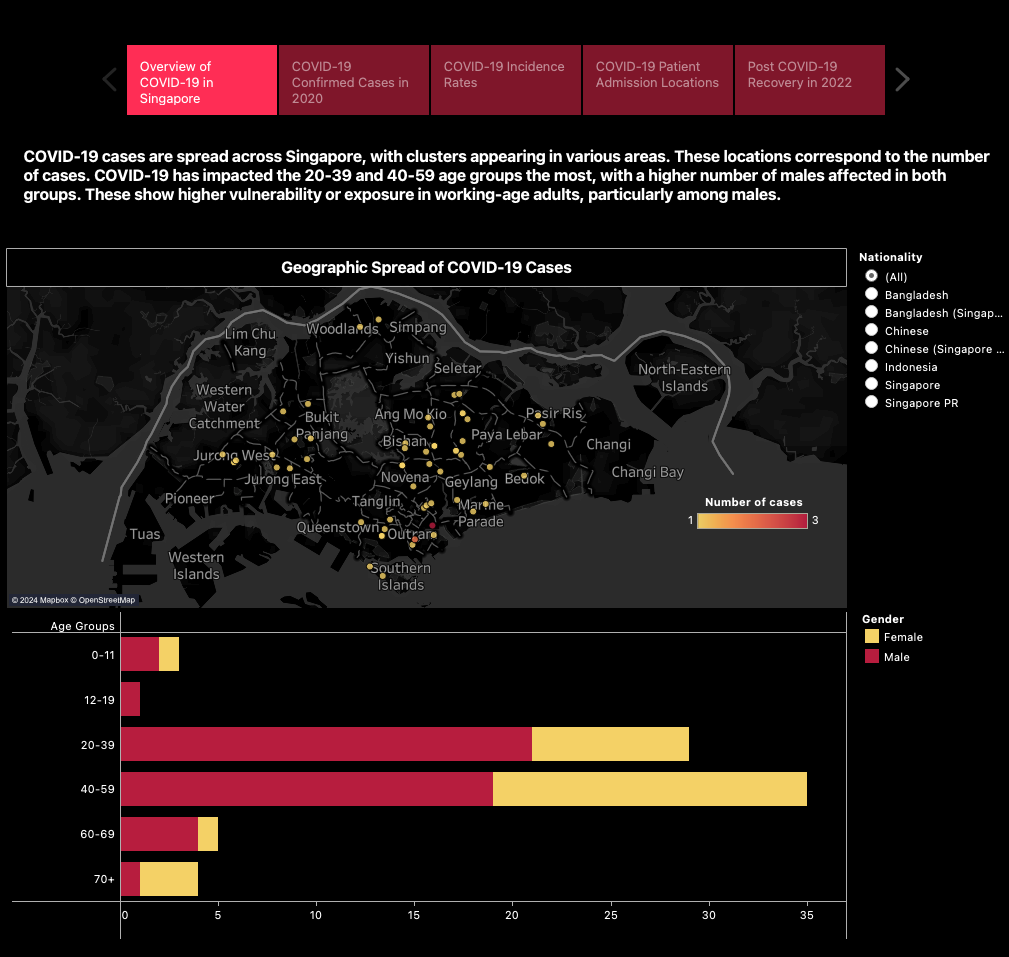

The dashboard page shown, as its layout file describes it:
{"tool":"tableau","page":{"name":"Dashboard 1","canvas":[1000,800],"ordinal":0},"visuals":[{"type":"text","box":[15,12,981,94]},{"type":"filter","title":"Age Groups and Gender Breakdown","param":"[federated.0vid85t1p1hoss10tvvdq1up0bj8].[none:Calculation_1382112507273531392:n","box":[853,115,151,289]},{"type":"worksheet","title":"Geographic Spread of COVID-19 Cases","mark":"Multipolygon","rows":["Calculation_1073123350743896073"],"cols":["Calculation_1073123350746976267"],"box":[0,149,842,325]},{"type":"legend","title":"Geographic Spread of COVID-19 Cases","param":"[federated.1r3wfv816pc4im18844g50si53n2].[cnt:case num (Sheet12):qk]","box":[678,360,140,64]},{"type":"legend","title":"Age Groups and Gender Breakdown","param":"[federated.0vid85t1p1hoss10tvvdq1up0bj8].[none:gender:nk]","box":[856,477,140,54]}]}

Visuals, with their boxes on the page's 1000x800 design canvas (x1, y1, x2, y2). These are canvas units, not pixel positions in the 1009x957 screenshot, which may show the page scaled, cropped or inside an application window:
text: bbox=[15, 12, 996, 106]
"Age Groups and Gender Breakdown" filter: bbox=[853, 115, 1004, 404]
"Geographic Spread of COVID-19 Cases" worksheet (Multipolygon marks): bbox=[0, 149, 842, 474]
"Geographic Spread of COVID-19 Cases" legend: bbox=[678, 360, 818, 424]
"Age Groups and Gender Breakdown" legend: bbox=[856, 477, 996, 531]
